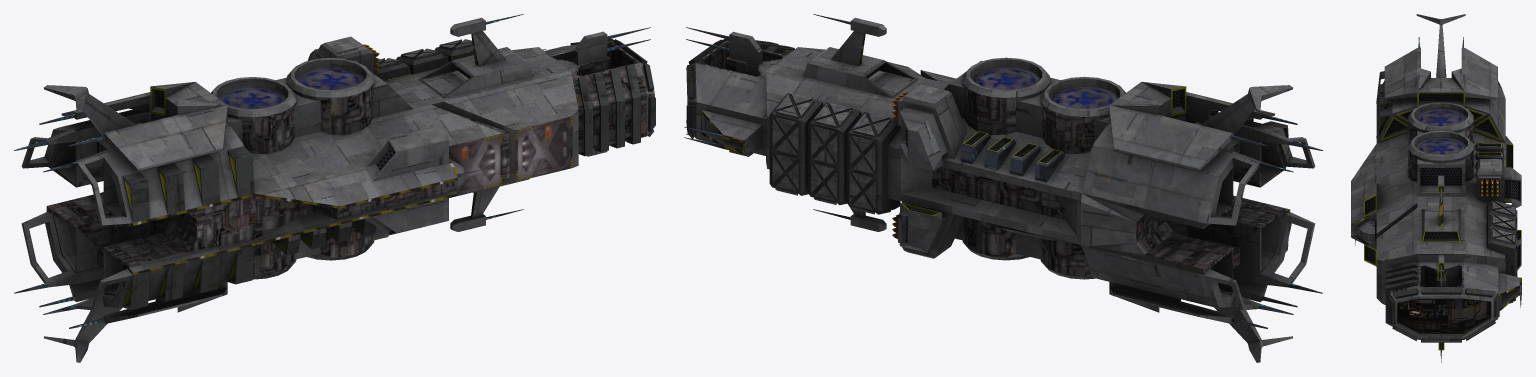
The model's file is frigate_c1.FBX.
The picture shows the model from 3 angles, left to right: view 1: azimuth 30°, elevation 25°; view 2: azimuth 150°, elevation 25°; view 3: azimuth 270°, elevation 25°; orthographic projection. The views are drawn at different scales.
Parts seen in each view (by area): view 1: ship_hull; view 2: ship_hull; view 3: ship_hull.
Boxes of the visible parts, x1=… form: ship_hull: x1=14, y1=14, x2=655, y2=362; ship_hull: x1=684, y1=14, x2=1322, y2=362; ship_hull: x1=1351, y1=14, x2=1521, y2=362.
Bounding box in the file's own units: 548 × 220 × 174.
Materials: 1 (1 with a texture image).
